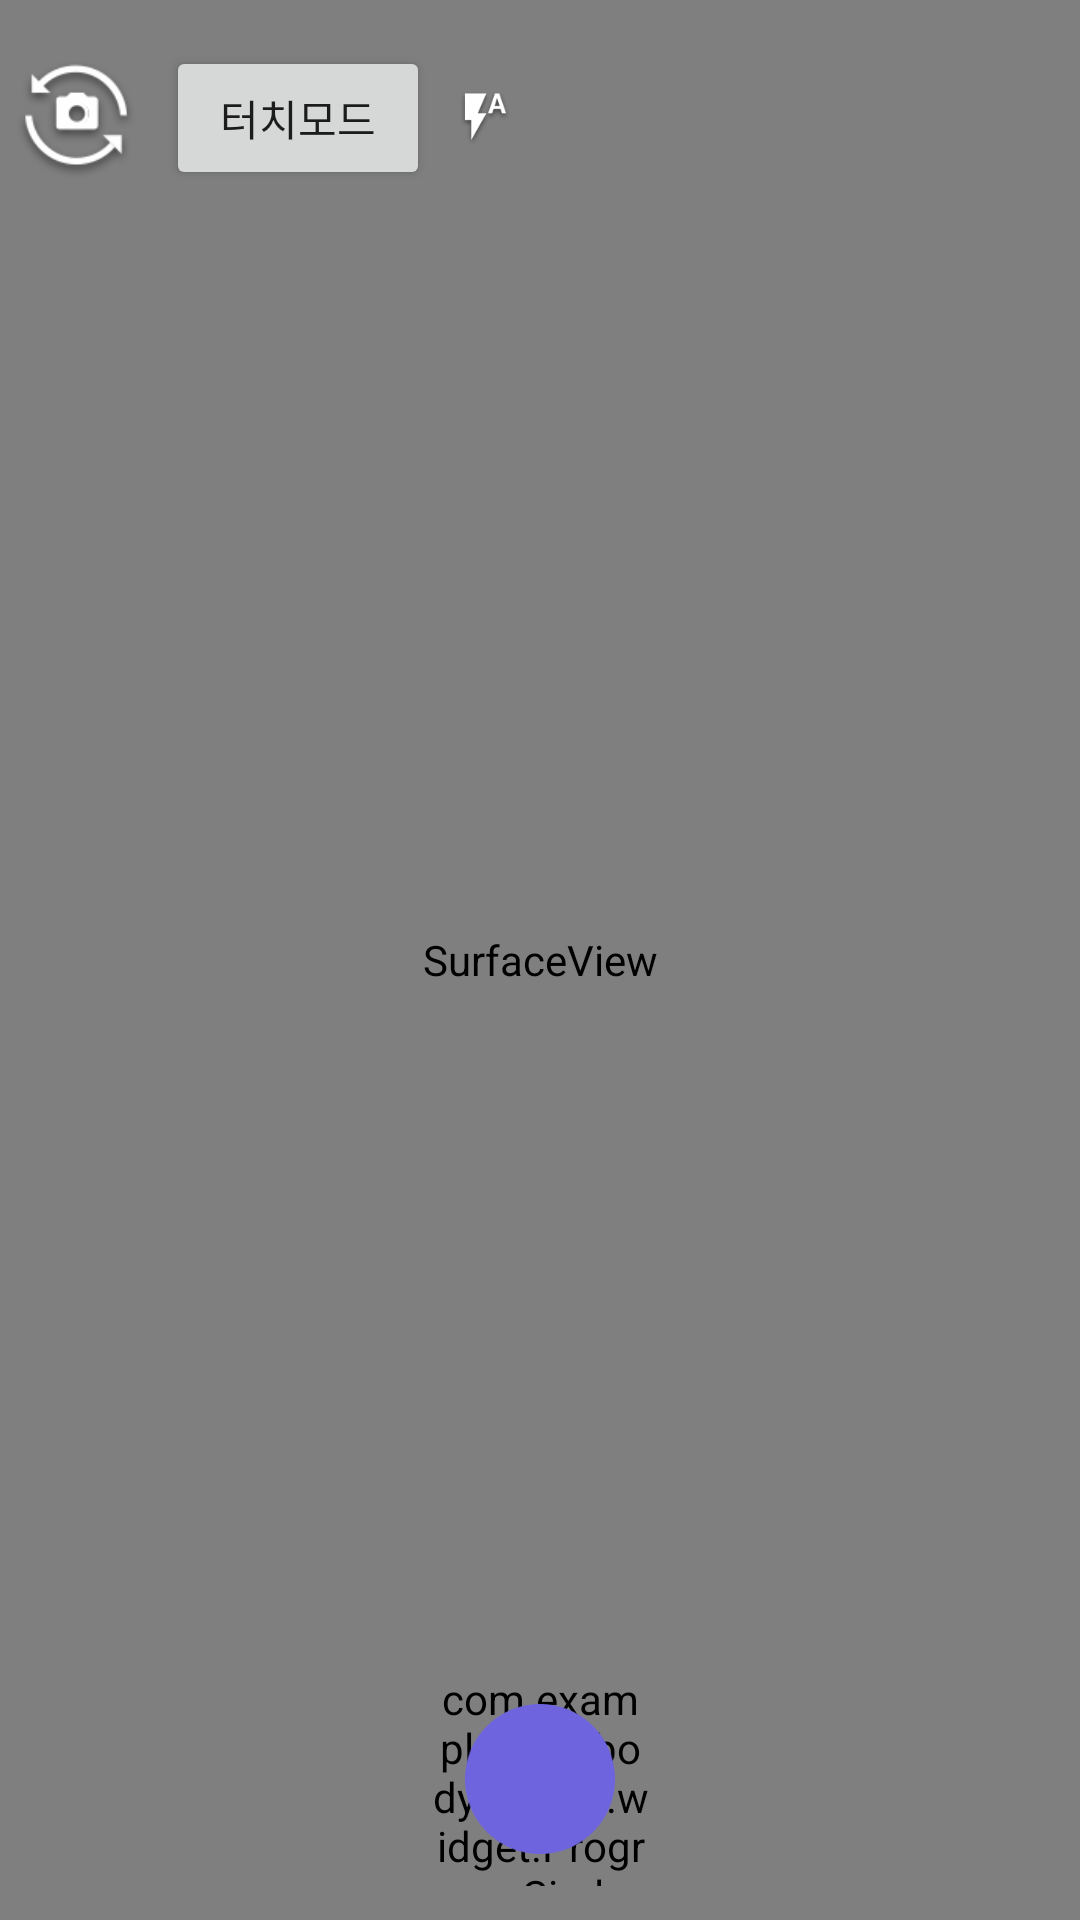

Icons on this 1080x1920 Android screen, each with its box as (x1, y1, x2, y2):
camera flash: (465, 93, 506, 139)
camera front: (25, 65, 127, 170)
